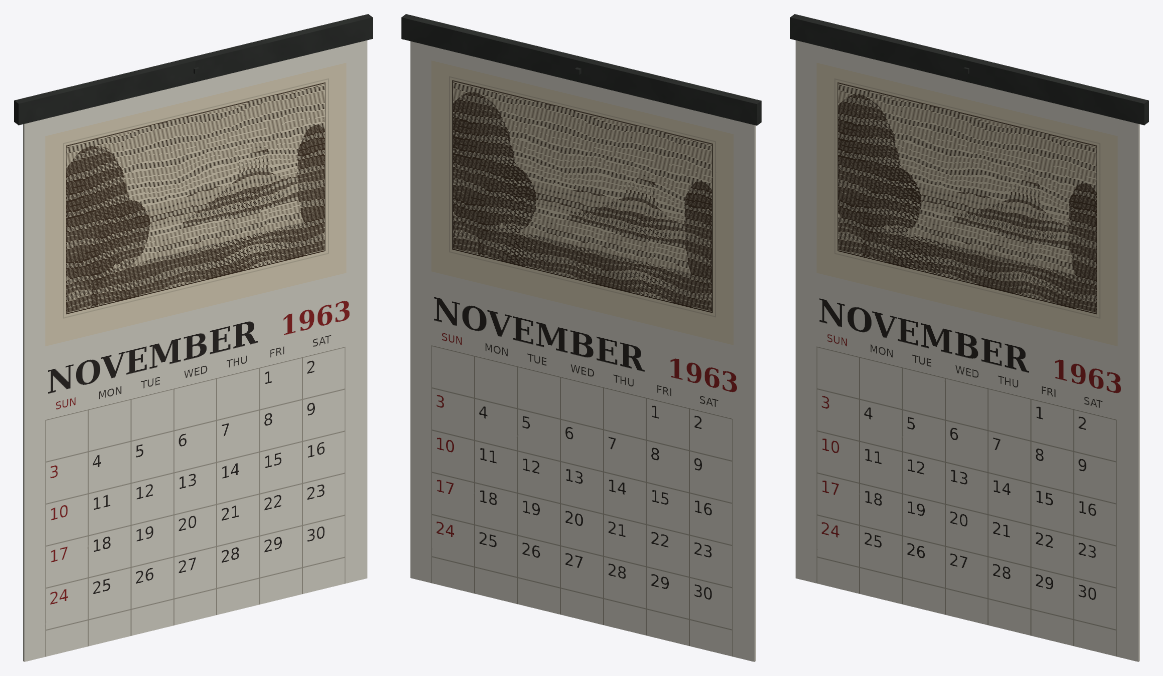
The model's file is X14_DRESS_Wall_Calendar_1963_11.glb.
The picture shows the model from 3 angles, left to right: view 1: azimuth 30°, elevation 25°; view 2: azimuth 150°, elevation 25°; view 3: azimuth 330°, elevation 25°; orthographic projection.
Visible parts, largest first — view 1: X14_DRESS_Wall_Calendar_1963_11_LOD0; view 2: X14_DRESS_Wall_Calendar_1963_11_LOD0; view 3: X14_DRESS_Wall_Calendar_1963_11_LOD0.
Part boxes in pixels (bbox=[...]): X14_DRESS_Wall_Calendar_1963_11_LOD0: bbox=[14, 14, 372, 661]; X14_DRESS_Wall_Calendar_1963_11_LOD0: bbox=[401, 14, 761, 661]; X14_DRESS_Wall_Calendar_1963_11_LOD0: bbox=[790, 14, 1148, 661].
Size of what is drawn, in the model's own units: 0.31 by 0.468 by 0.012.
Materials: 2 (2 with a texture image).
